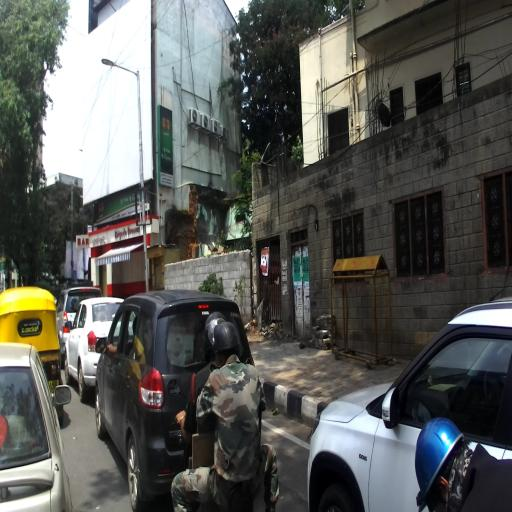street_light_0: (100, 58, 142, 78)
